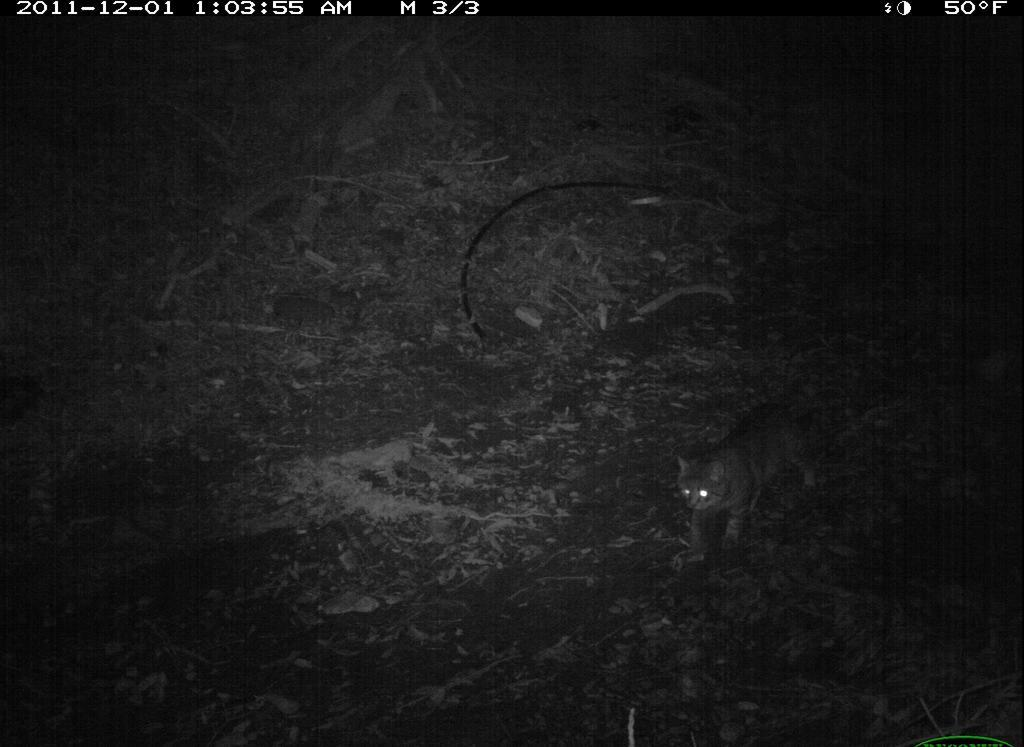cat: (669, 390, 862, 575)
